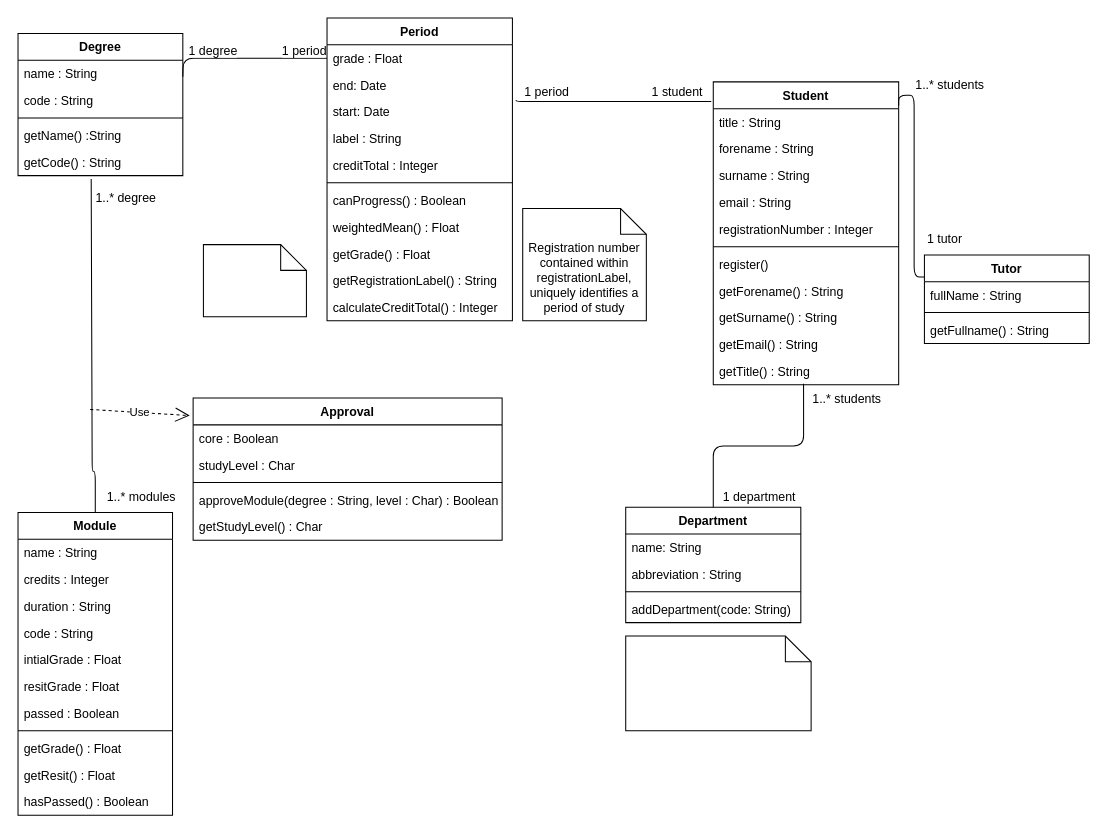
The diagram is 1107 pixels wide and 836 high, and some of its shapes have lost their labels. The centre of each missing label's shape, as x and y in pixels:
abbreviation is a three letter code, also used in the code for module: point (718, 683)
true - core false - optional: point (254, 280)
